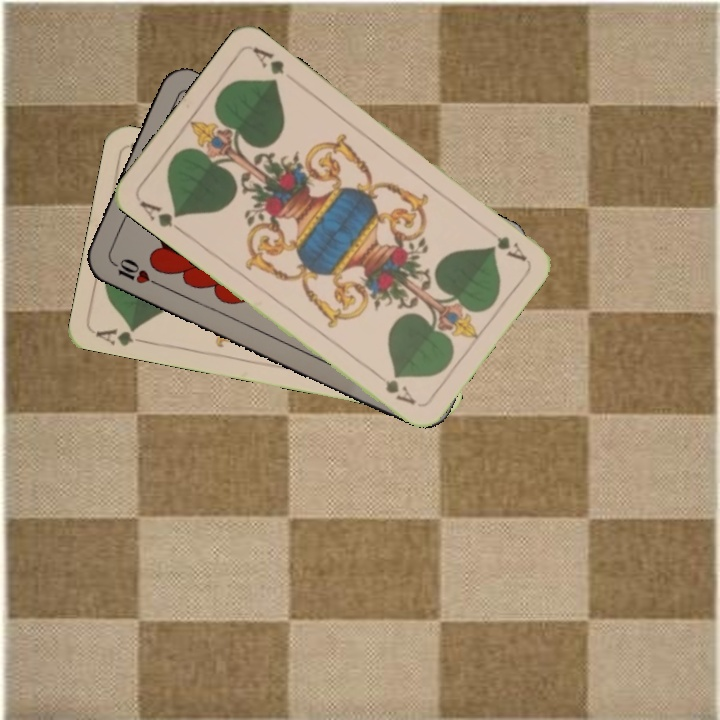GA: (135, 196, 186, 236), (91, 322, 151, 349), (492, 232, 530, 264)
H10: (105, 254, 161, 288)
